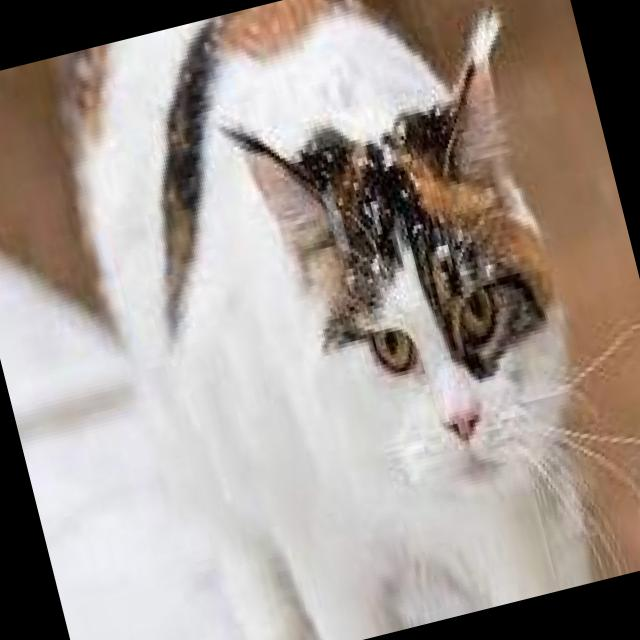Gato: (40, 0, 640, 640)
